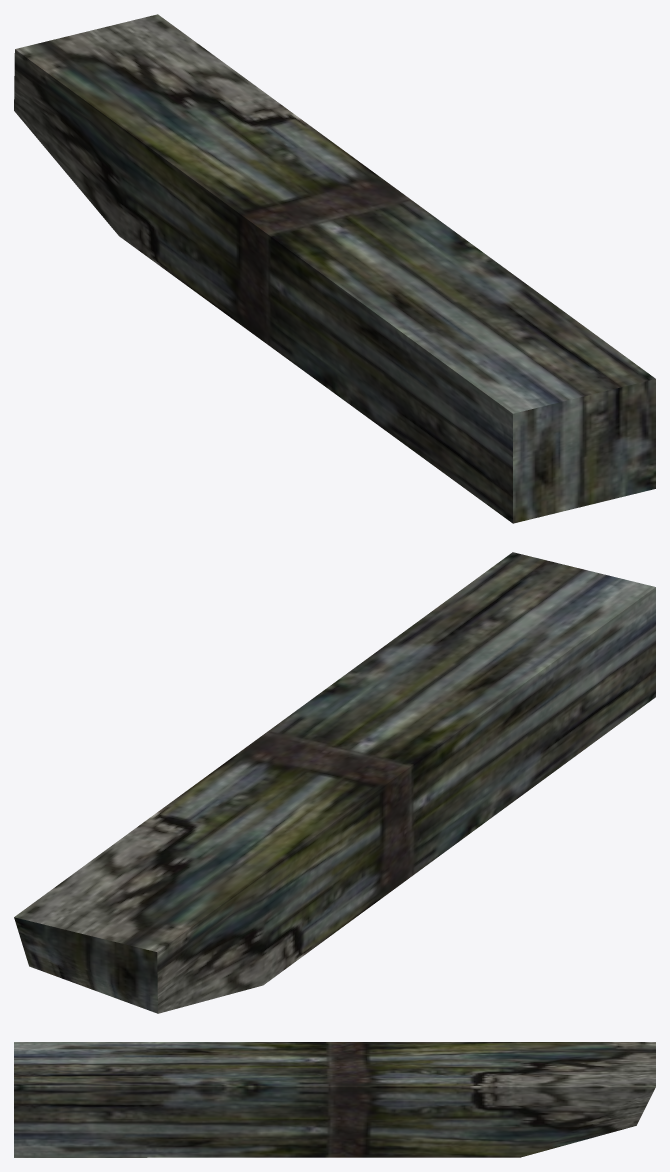
The model's file is pir_m_prp_dvj_woodBeam.fbx.
3 views of the same model, one above another, from view 1: azimuth 30°, elevation 25°; view 2: azimuth 150°, elevation 25°; view 3: azimuth 270°, elevation 25° (orthographic). The views are drawn at different scales.
Visible parts, largest first — view 1: lod_high; view 2: lod_high; view 3: lod_high.
Part boxes in pixels (x1,y1,x2,y2): lod_high: (14,14,655,523); lod_high: (14,552,655,1013); lod_high: (14,1042,655,1157).
Size of the model in its own units: 548 by 400 by 3284.
1 material, 1 textured.
